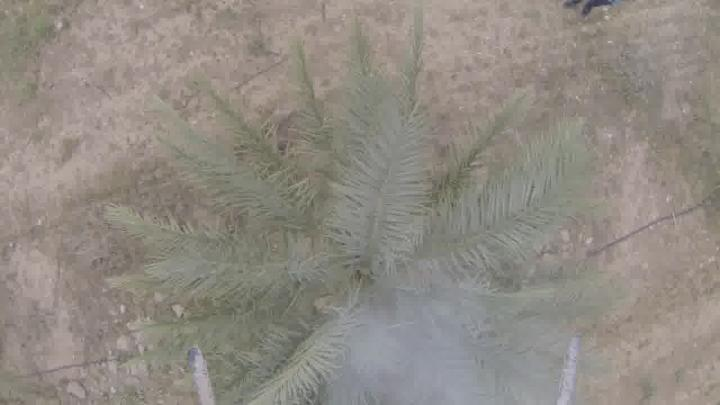Date-Palm-Crown: (236, 141, 494, 405)
